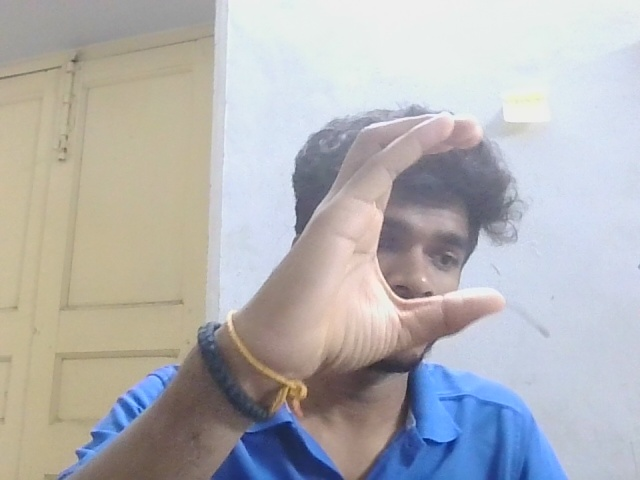No: (247, 102, 513, 382)
